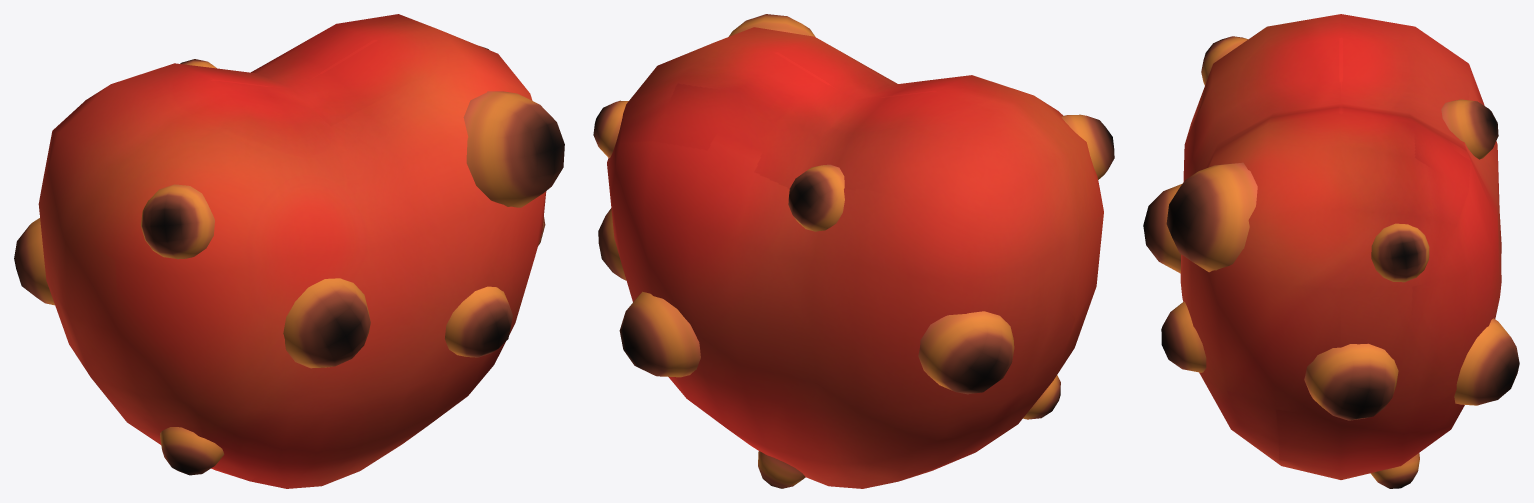
The model's file is heartPlanet.fbx.
3 views of the same model, side by side, from view 1: azimuth 30°, elevation 25°; view 2: azimuth 150°, elevation 25°; view 3: azimuth 270°, elevation 25° (orthographic). The views are drawn at different scales.
Parts seen in each view (by area): view 1: Heartworld; view 2: Heartworld; view 3: Heartworld.
Boxes of the visible parts, box(x1,y1,x2,y2) form: Heartworld: box(14, 14, 564, 488); Heartworld: box(593, 14, 1114, 488); Heartworld: box(1143, 14, 1519, 488).
Size of the model in its own units: 2.78 by 2.33 by 2.01.
